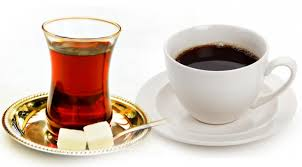kahve: (163, 23, 298, 125)
